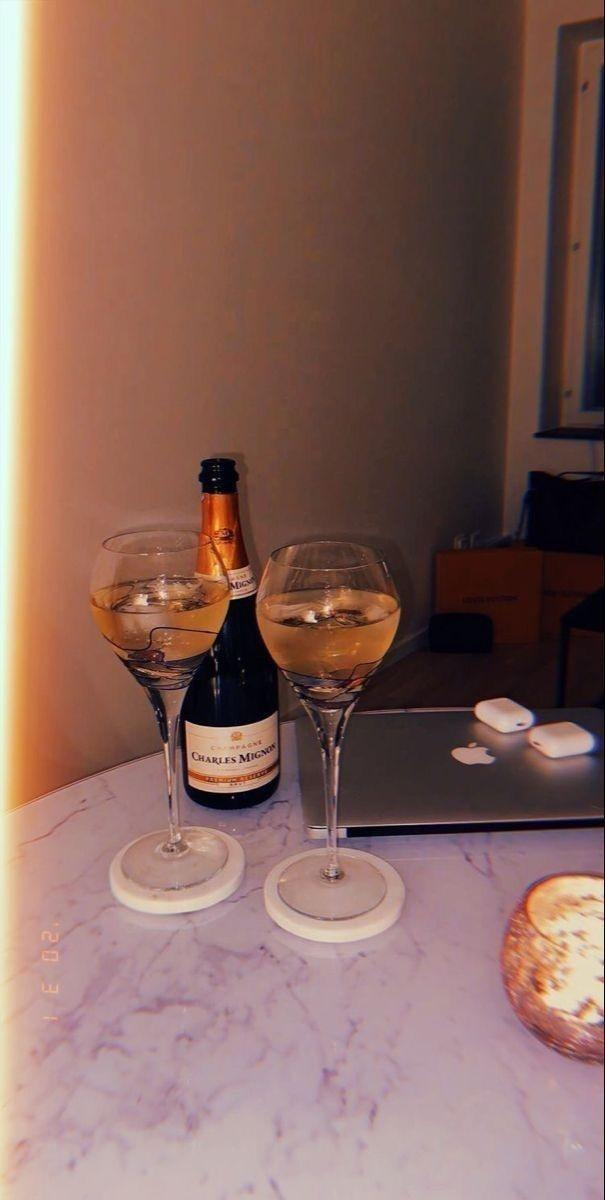bottle-glass: (178, 454, 281, 818)
glass-wine: (252, 535, 405, 931), (83, 522, 239, 910)
